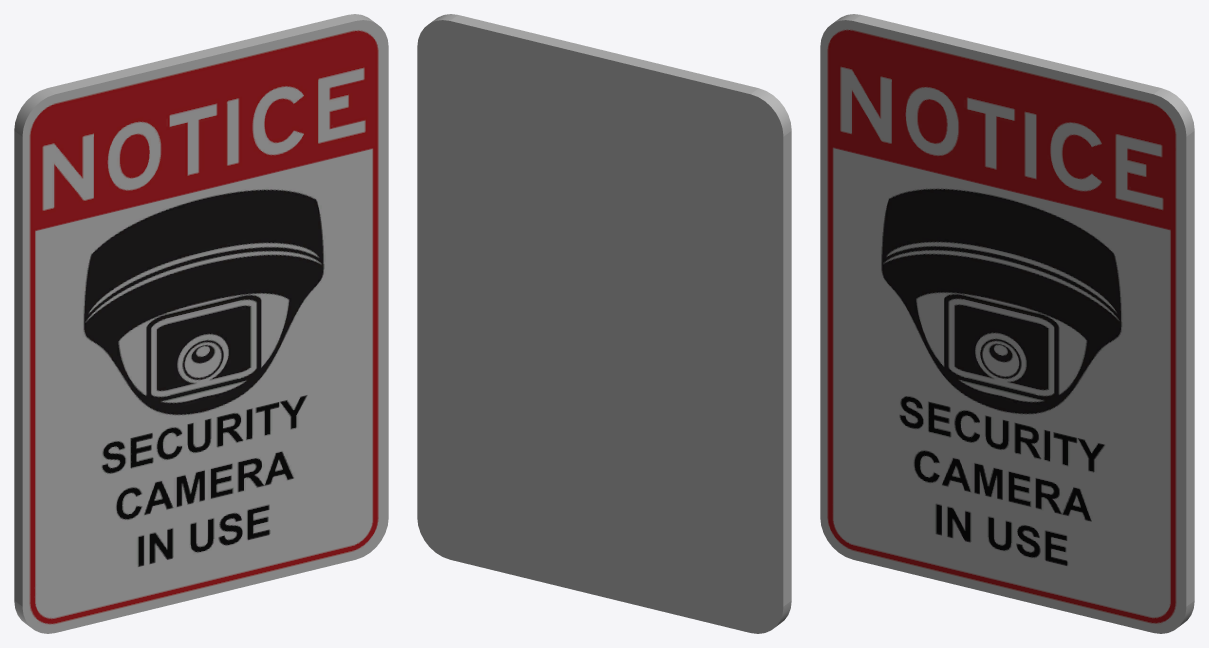
File: poster1.glb
The picture shows the model from 3 angles, left to right: view 1: azimuth 30°, elevation 25°; view 2: azimuth 150°, elevation 25°; view 3: azimuth 330°, elevation 25°; orthographic projection.
Parts seen in each view (by area): view 1: Poster 1; view 2: Poster 1; view 3: Poster 1.
Part boxes in pixels (left/top/right/bottom): Poster 1: left=14, top=14, right=388, bottom=633; Poster 1: left=417, top=14, right=791, bottom=633; Poster 1: left=820, top=14, right=1194, bottom=633.
Size of the model in its own units: 0.307 by 0.4316 by 0.012.
1 material, 1 textured.
